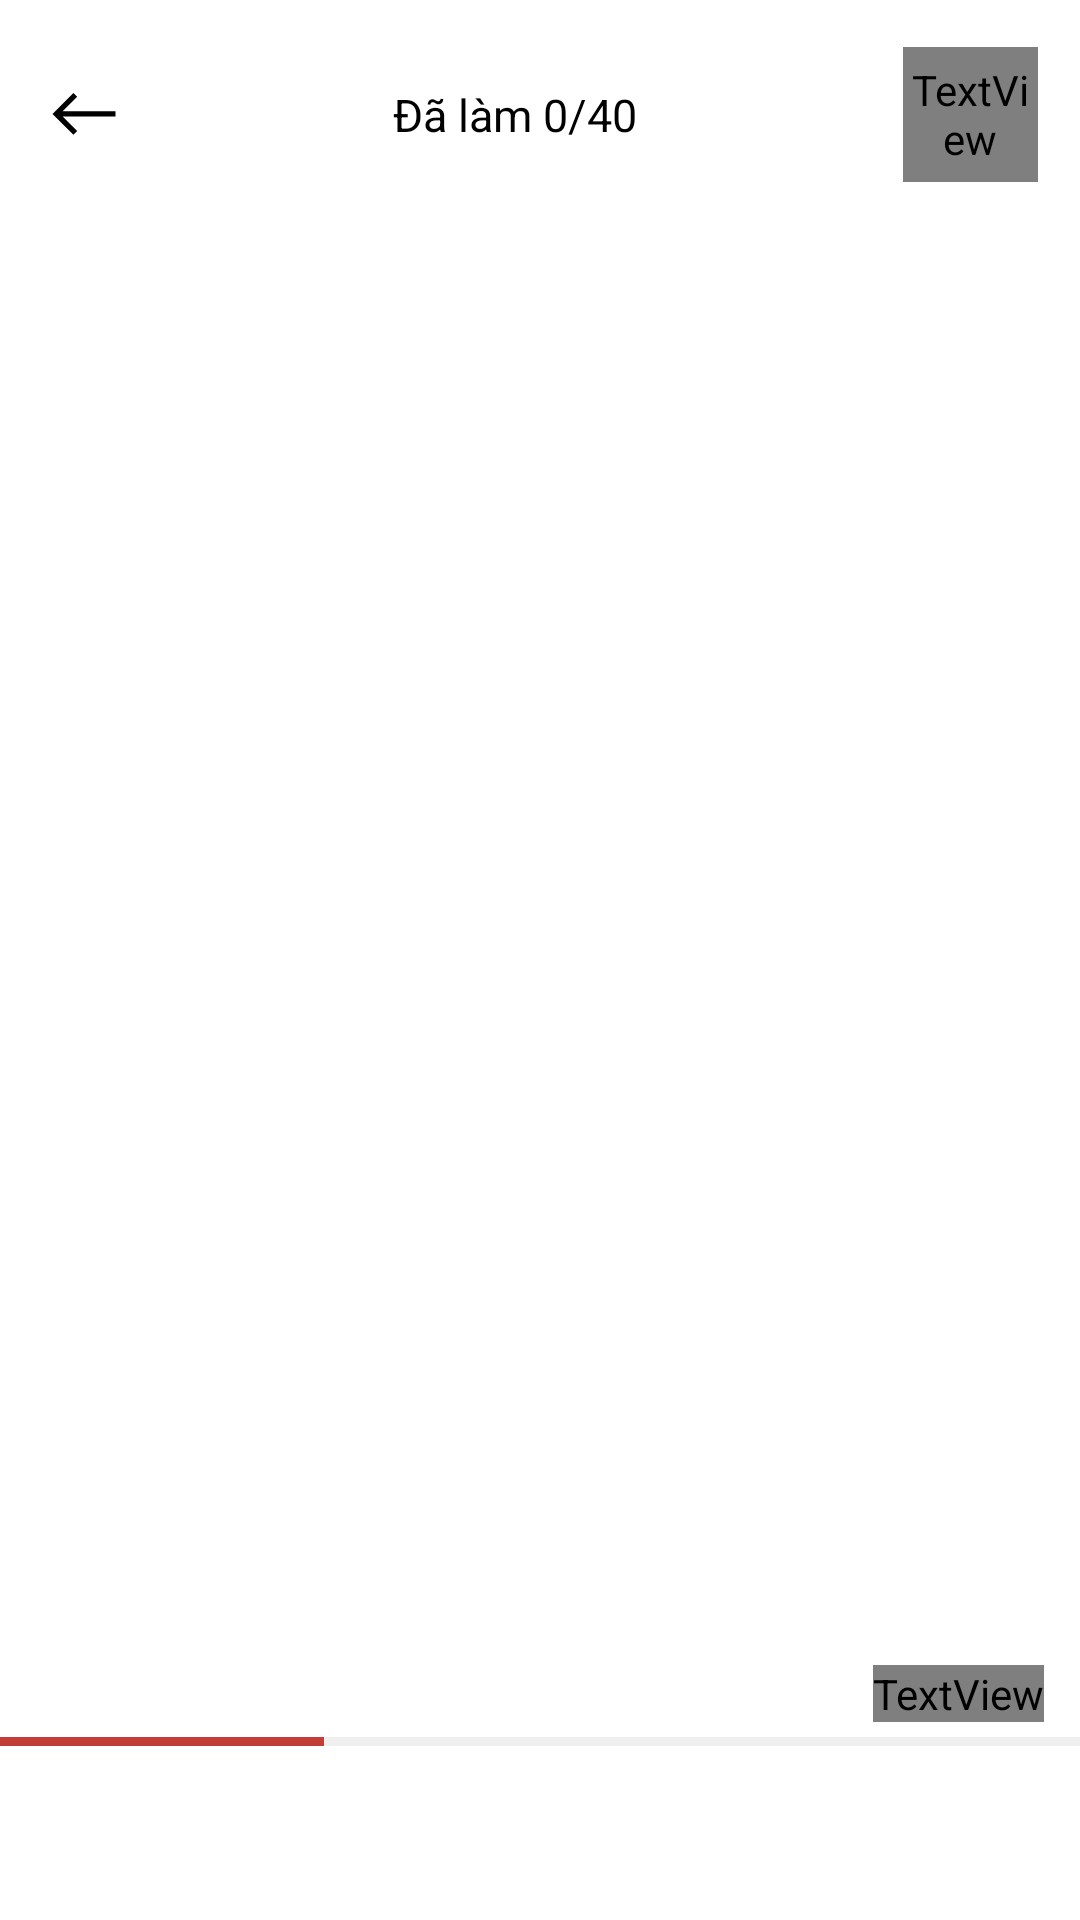

Where to tap for icons on this 1080 x 1920 app screen, as point (x, y):
back: point (84, 114)
